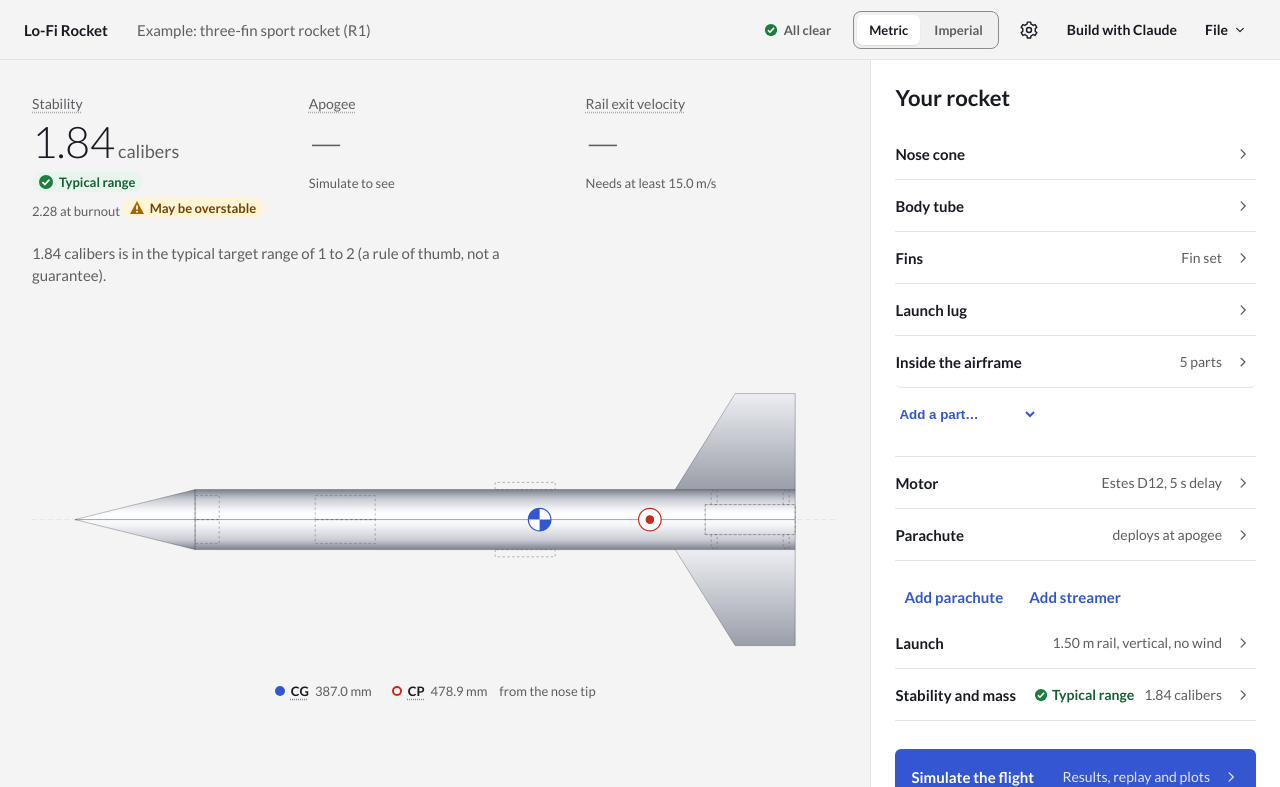
Test: FlightPanel (plan 0014) › rejects a zero rail length at the field and warns above the NAR angle
The width and height of the screenshot is (1280, 787).
Click the option "Launch 1.50 m rail, vertical, no wind" at (1076, 643), box [895,617,1256,669]
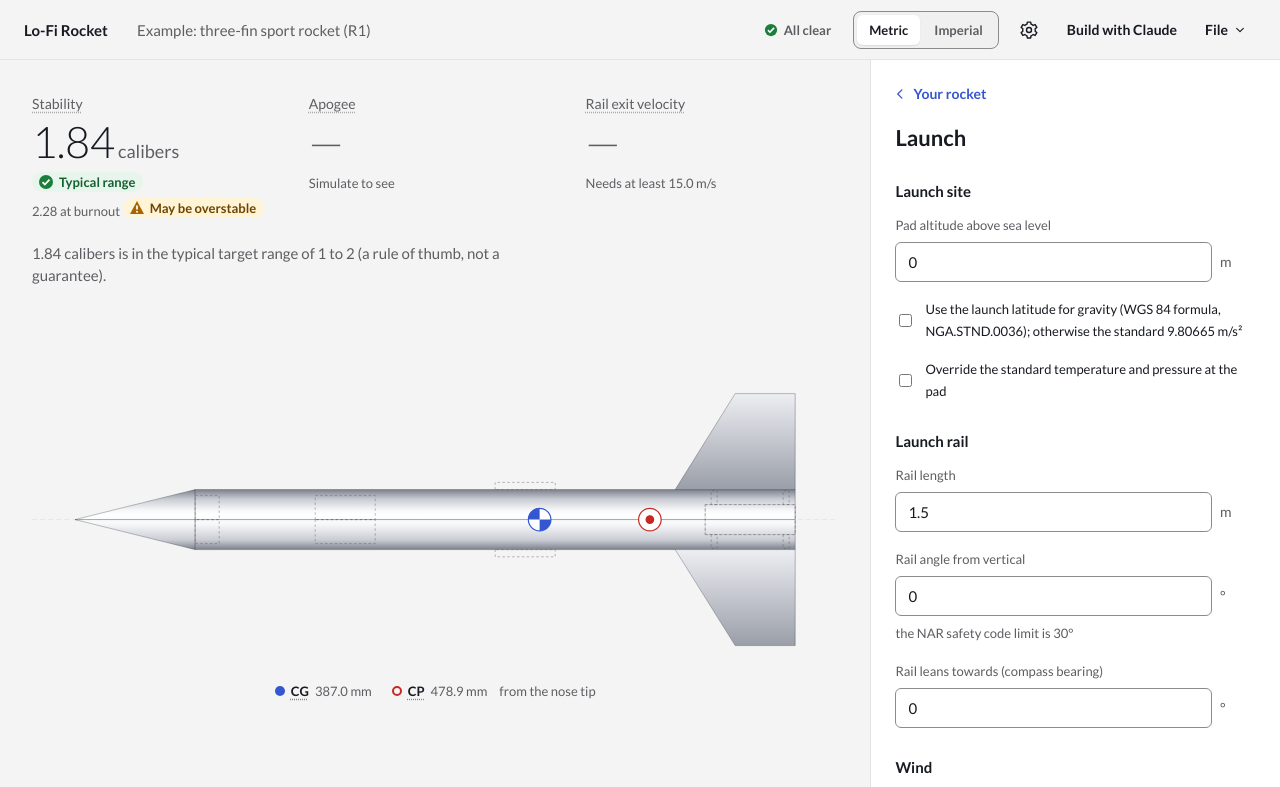
Replace the text in the field labelled "Rail length" with "0" at (1054, 512), box [895,492,1212,532]
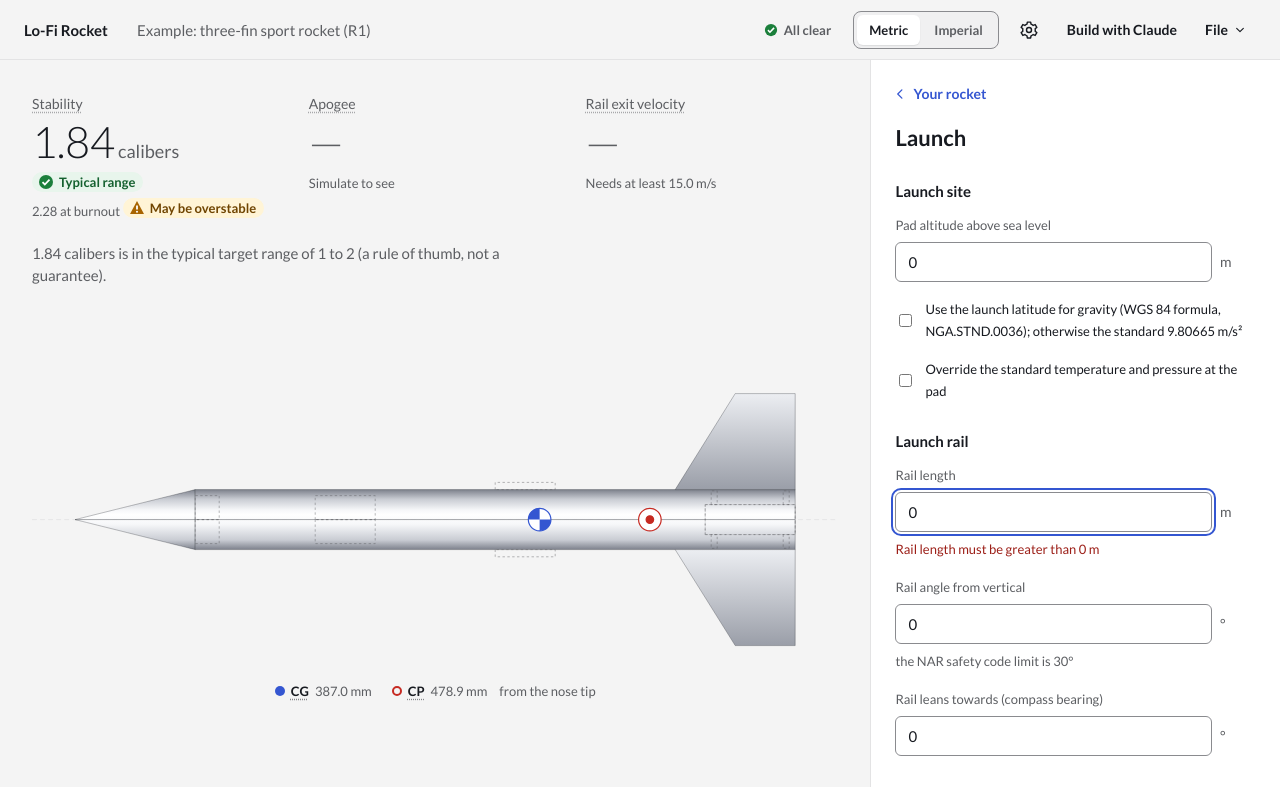
Now the message reads "Rail length must be greater than 0 m", box [895,541,1099,557]
Replace the text in the field labelled "Rail length" with "1.5" at (1054, 512), box [895,492,1212,532]
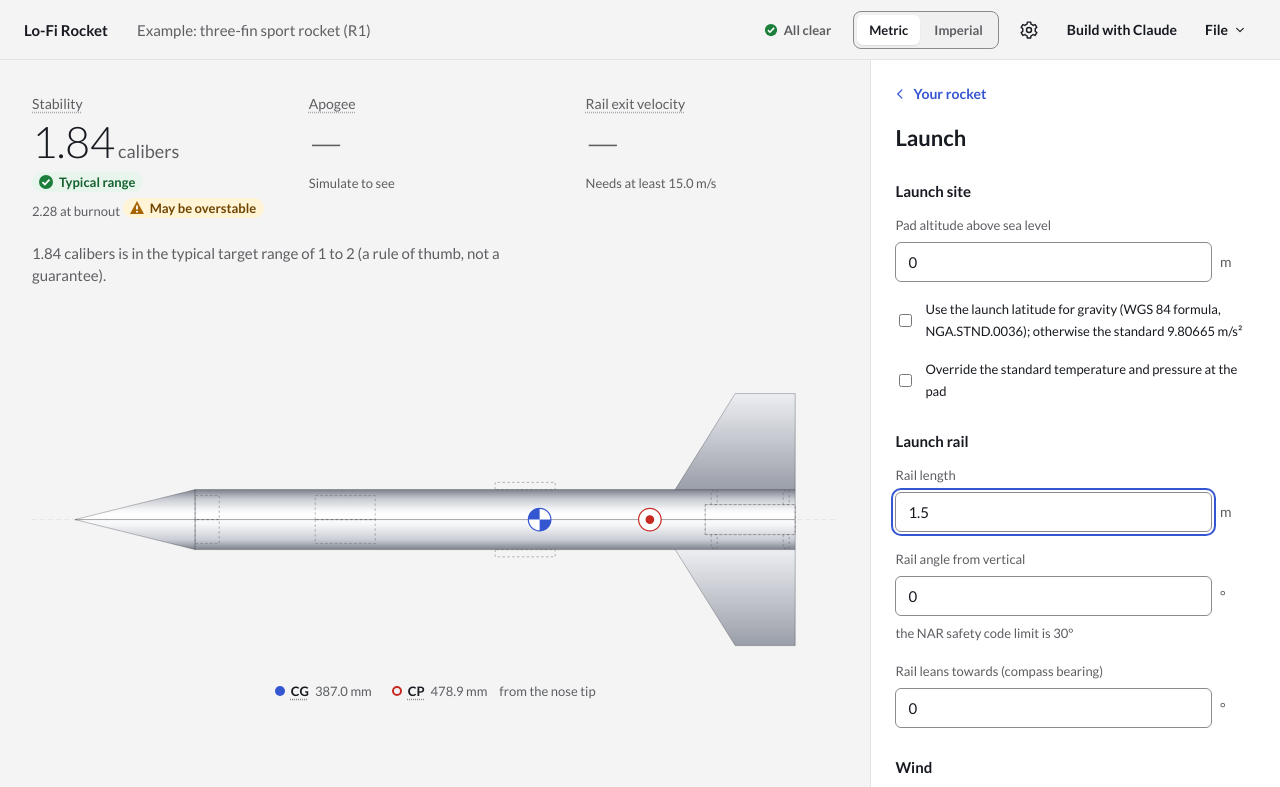
Replace the text in the field labelled "Rail angle from vertical" with "45" at (1054, 596), box [895,576,1212,616]
(page scrolled)
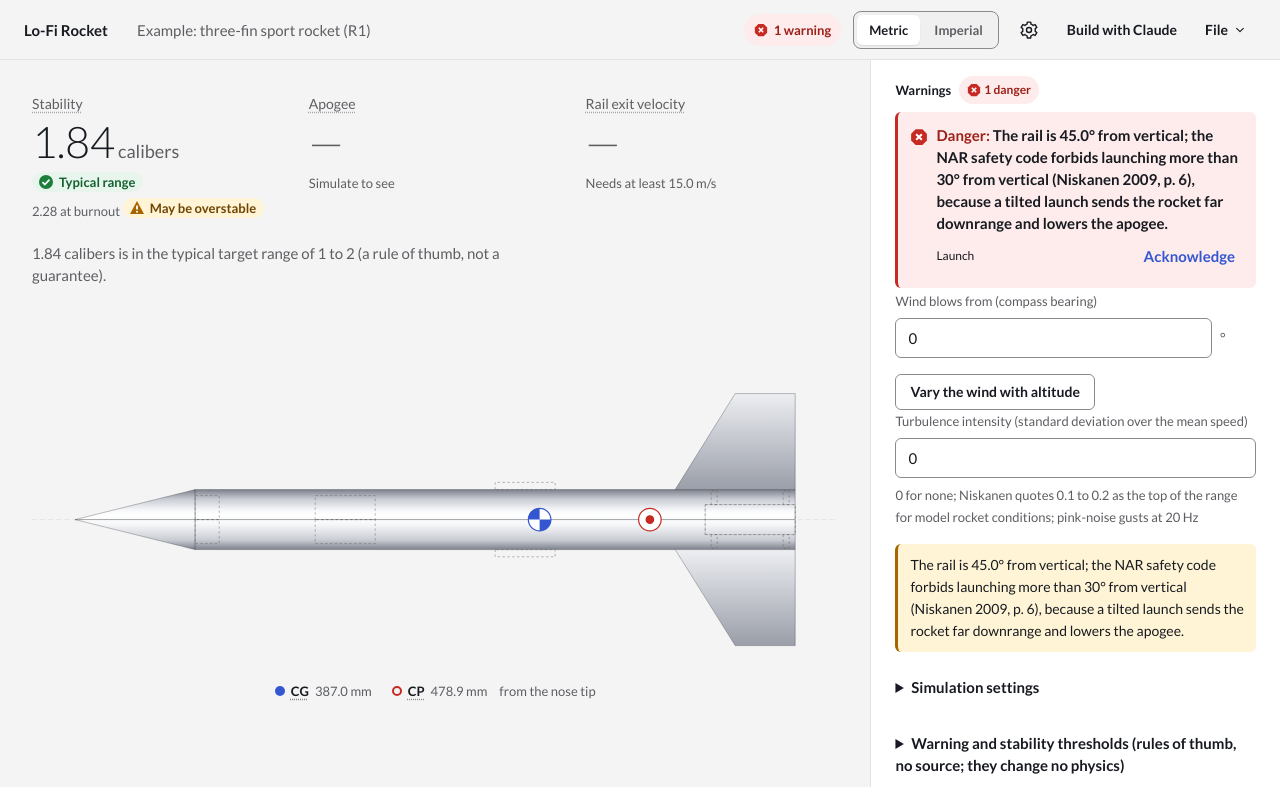
Now the message shows "NAR safety code forbids launching more than 30°", box [910,556,1244,639]
